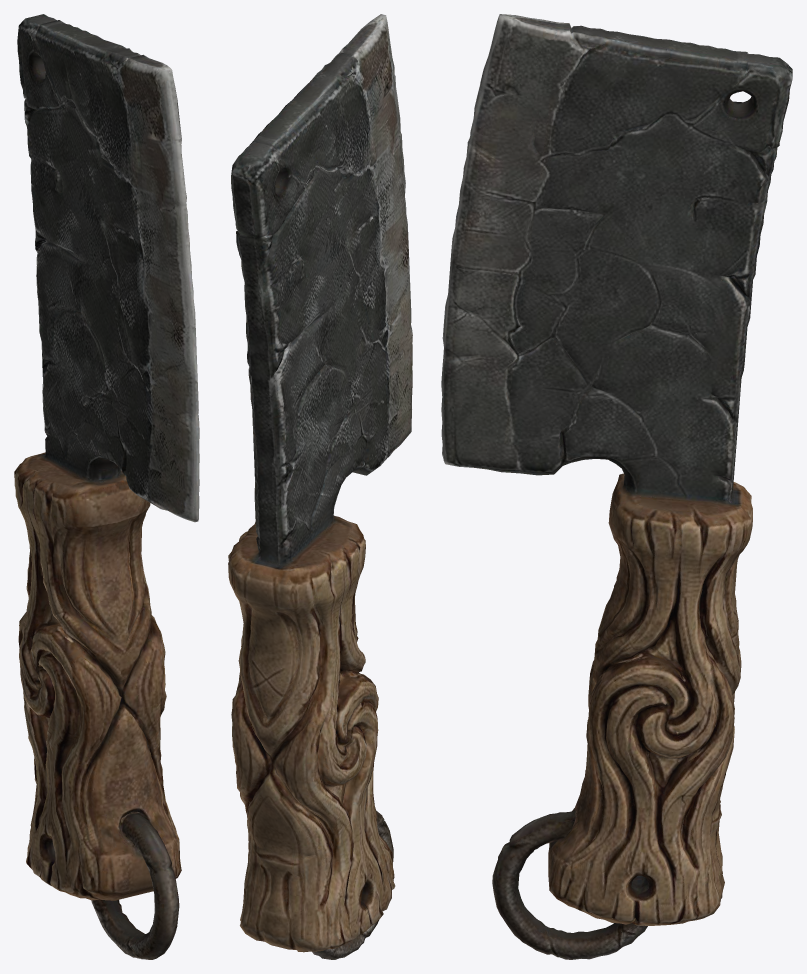
File: feast_cleaver.glb
The picture shows the model from 3 angles, left to right: view 1: azimuth 30°, elevation 25°; view 2: azimuth 150°, elevation 25°; view 3: azimuth 270°, elevation 25°; orthographic projection. The views are drawn at different scales.
Parts seen in each view (by area): view 1: feast_cleaver; view 2: feast_cleaver; view 3: feast_cleaver.
Part boxes in pixels (x1,y1,x2,y2): feast_cleaver: [14, 14, 199, 959]; feast_cleaver: [228, 14, 412, 959]; feast_cleaver: [441, 14, 792, 959].
Bounding box in the file's own units: 0.0884 × 0.7 × 0.2366.
Materials: 1 (1 with a texture image).
